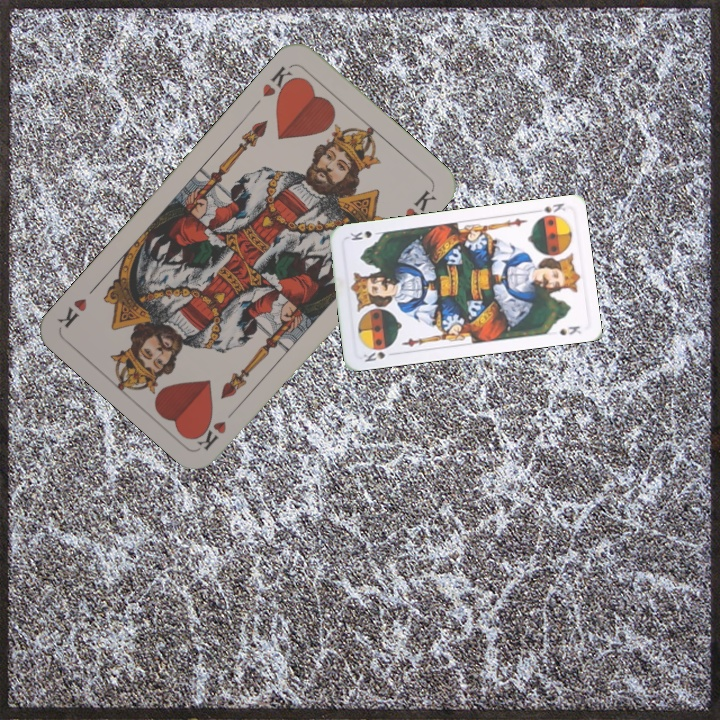HK: (193, 402, 241, 453), (258, 61, 300, 104)
SK: (530, 199, 568, 216), (359, 348, 388, 364)
